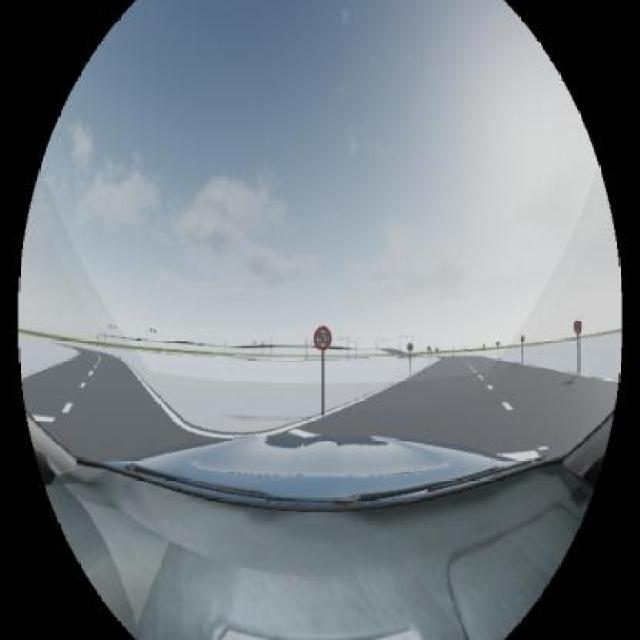forb_speed_over_50: (315, 325, 332, 350)
